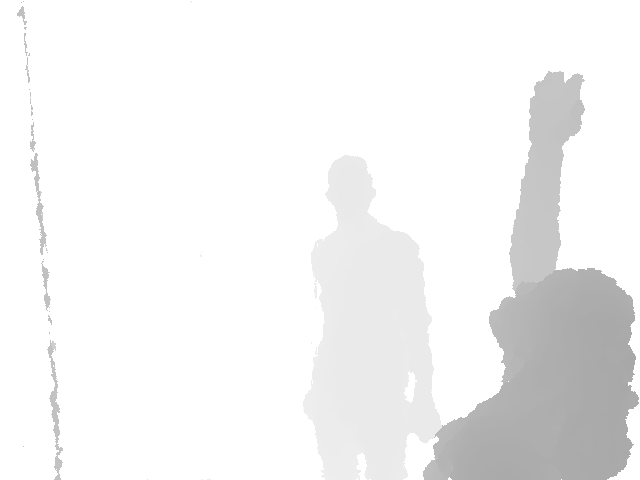hand: (528, 70, 587, 144)
head: (487, 267, 637, 384), (325, 155, 377, 220)
person: (420, 69, 640, 480), (301, 156, 444, 480)
